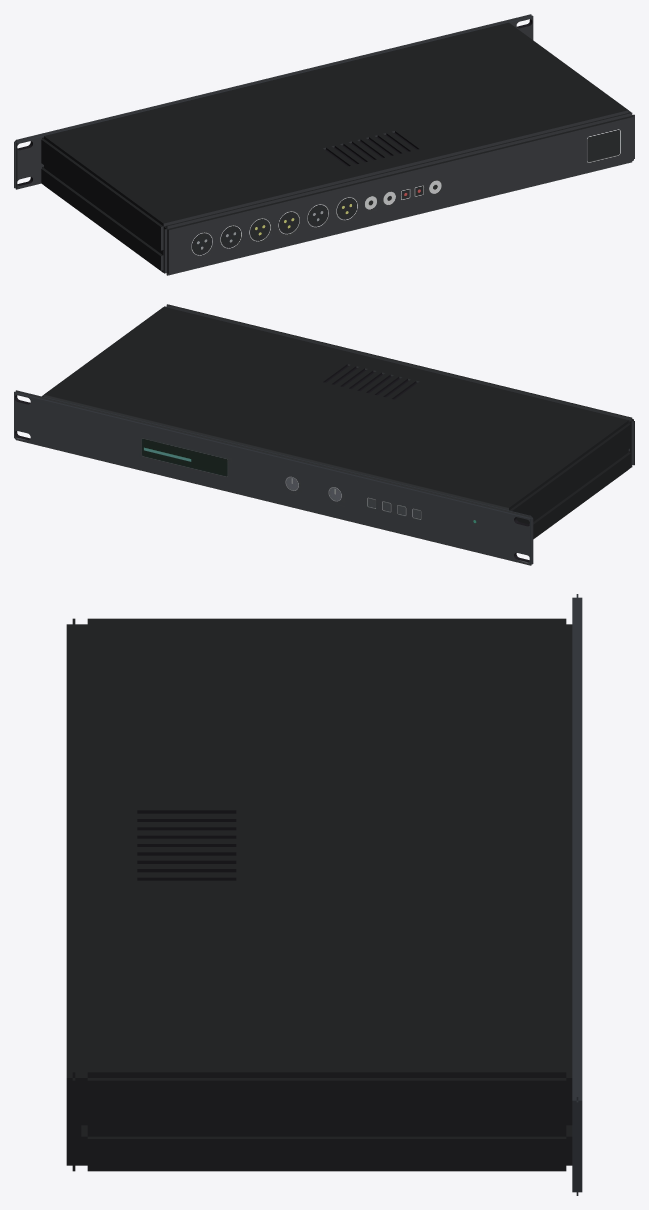
File: tc-electronic-m3000.glb
3 renders of one model, top to bottom at view 1: azimuth 30°, elevation 25°; view 2: azimuth 150°, elevation 25°; view 3: azimuth 270°, elevation 25°, orthographic. The views are drawn at different scales.
Parts seen in each view (by area): view 1: tc-electronic-m3000-body; view 2: tc-electronic-m3000-body; view 3: tc-electronic-m3000-body.
Boxes of the visible parts, bbox=[...] form: tc-electronic-m3000-body: bbox=[14, 14, 634, 275]; tc-electronic-m3000-body: bbox=[14, 304, 634, 565]; tc-electronic-m3000-body: bbox=[66, 594, 582, 1195].
Size of the model in its own units: 0.483 by 0.044 by 0.208.
Materials: 1 (1 with a texture image).
